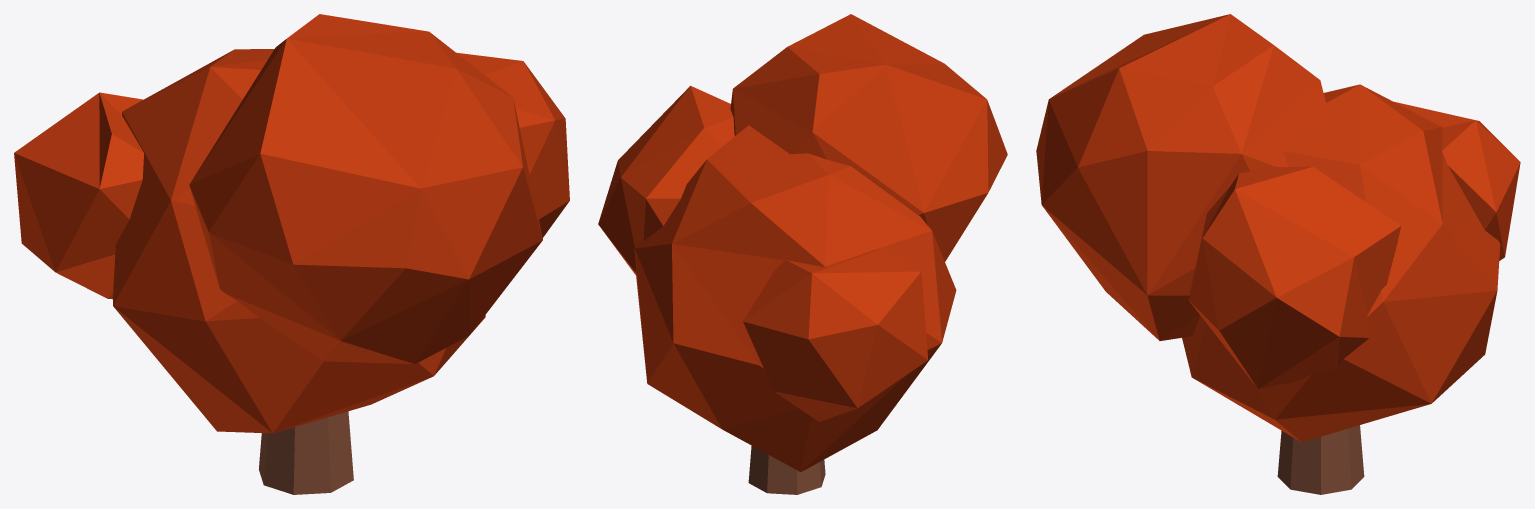
The model's file is Bush_5_summer_red_mat.fbx.
3 renders of one model, left to right at view 1: azimuth 30°, elevation 25°; view 2: azimuth 150°, elevation 25°; view 3: azimuth 270°, elevation 25°, orthographic. The views are drawn at different scales.
Visible parts, largest first — view 1: Bush_5_summer_red_mat; view 2: Bush_5_summer_red_mat; view 3: Bush_5_summer_red_mat.
Part boxes in pixels (x1,y1,x2,y2): Bush_5_summer_red_mat: (14,14,569,494); Bush_5_summer_red_mat: (598,14,1007,494); Bush_5_summer_red_mat: (1036,14,1520,494).
Size of the model in its own units: 31.34 by 32.92 by 33.43.
